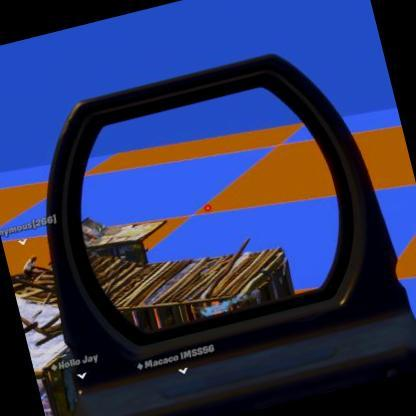person: (21, 256, 38, 284)
